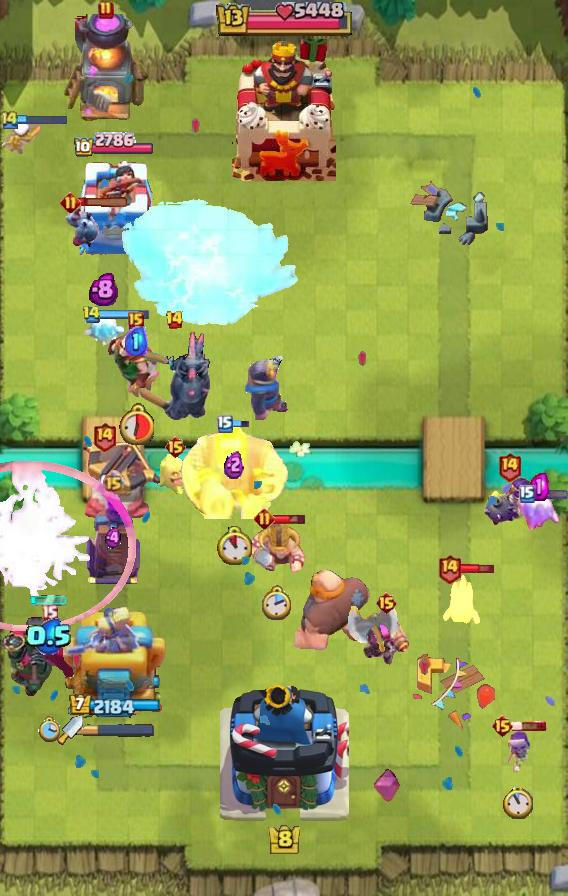balloon: (292, 568, 372, 656)
bar: (60, 607, 168, 731)
barbarian-evolution: (0, 460, 136, 632)
bat: (442, 573, 484, 627), (82, 313, 124, 351)
bat-evolution: (155, 450, 195, 494)
clock: (214, 1, 354, 38)
electro-spirit: (25, 617, 73, 654), (90, 272, 119, 306), (125, 326, 148, 356), (224, 449, 244, 479), (529, 473, 549, 501), (105, 527, 121, 549)
elixir: (118, 403, 154, 445), (217, 526, 252, 566), (263, 585, 294, 623), (503, 785, 533, 818), (38, 716, 60, 743)
emote: (16, 115, 68, 126), (78, 196, 130, 207), (98, 308, 150, 319), (460, 562, 495, 575), (511, 720, 547, 732), (272, 513, 307, 525), (532, 488, 568, 499), (230, 418, 249, 429)
firecracker: (246, 356, 290, 421)
giant-skeleton: (179, 425, 289, 519)
goblin: (503, 731, 533, 773)
goblin-ball: (483, 475, 535, 529)
goblin-giant: (249, 522, 305, 576)
golemite: (138, 329, 210, 423)
heal-spirit: (2, 122, 40, 154)
hunter: (62, 14, 150, 124)
ice-spirit: (29, 594, 69, 606)
ice-spirit-evolution-symbol: (83, 494, 143, 586)
inferno-tower: (1, 615, 97, 699)
king-tower: (219, 678, 349, 826), (232, 39, 336, 181)
king-tower-bar: (83, 723, 155, 737)
lava-pup: (78, 442, 160, 522)
mega-knight: (117, 196, 301, 332)
mirror: (514, 492, 564, 530)
queen-tower: (68, 158, 160, 256)
royal-delivery: (62, 207, 104, 249)
royal-giant: (347, 602, 399, 654)
selected: (73, 132, 155, 159), (68, 694, 160, 718)
skeleton-king: (104, 331, 168, 399)
skeleton-king-skill: (373, 768, 401, 804)
text: (92, 420, 117, 451), (497, 450, 522, 481), (437, 553, 462, 584), (164, 435, 187, 459), (374, 591, 397, 615), (491, 714, 514, 738), (102, 470, 125, 493), (254, 507, 275, 529), (59, 191, 80, 212), (0, 110, 20, 131), (164, 310, 184, 330), (83, 304, 102, 323), (41, 605, 59, 623), (98, 0, 114, 20), (128, 312, 144, 330), (217, 415, 233, 433), (519, 485, 535, 503)
tombstone: (361, 614, 410, 666)
